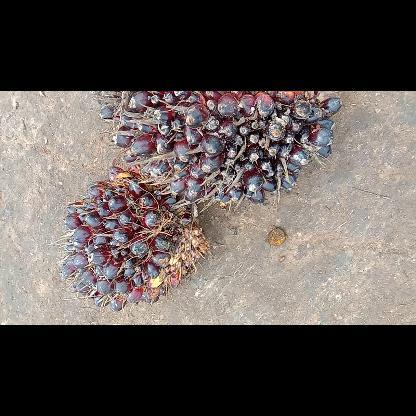TBS mentah: (98, 91, 344, 209), (62, 166, 214, 312), (57, 168, 208, 312)
